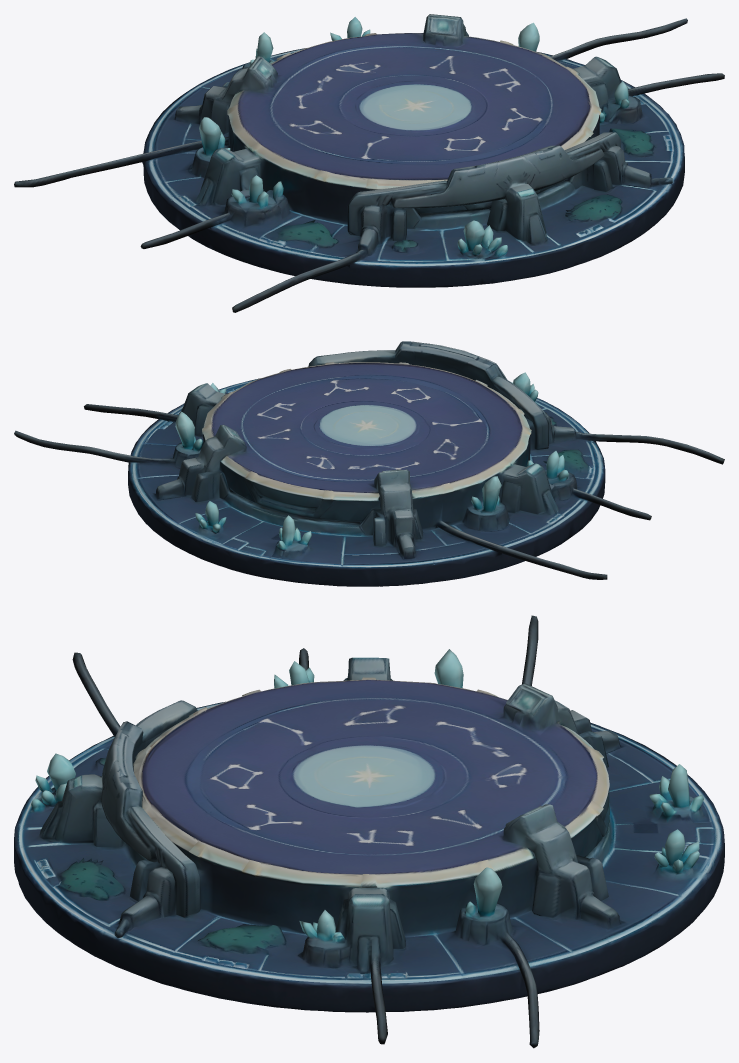
The model's file is platform.fbx.
3 renders of one model, top to bottom at view 1: azimuth 30°, elevation 25°; view 2: azimuth 150°, elevation 25°; view 3: azimuth 270°, elevation 25°, orthographic. The views are drawn at different scales.
Visible parts, largest first — view 1: tripo_node_de81d501; view 2: tripo_node_de81d501; view 3: tripo_node_de81d501.
Part boxes in pixels (x1,y1,x2,y2): tripo_node_de81d501: [14, 14, 724, 312]; tripo_node_de81d501: [14, 341, 724, 586]; tripo_node_de81d501: [14, 615, 724, 1048].
Size of the model in its own units: 98.65 by 69.39 by 12.25.
1 material, 1 textured.
